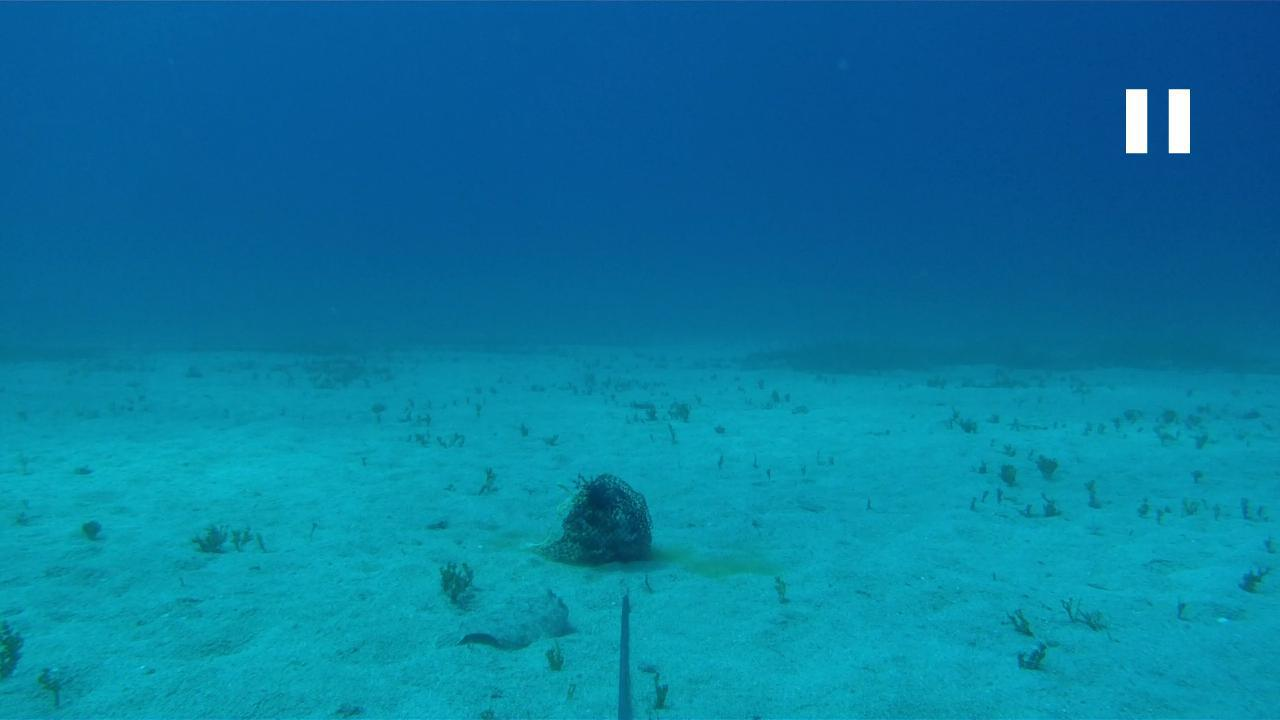bothus: (426, 584, 572, 650)
